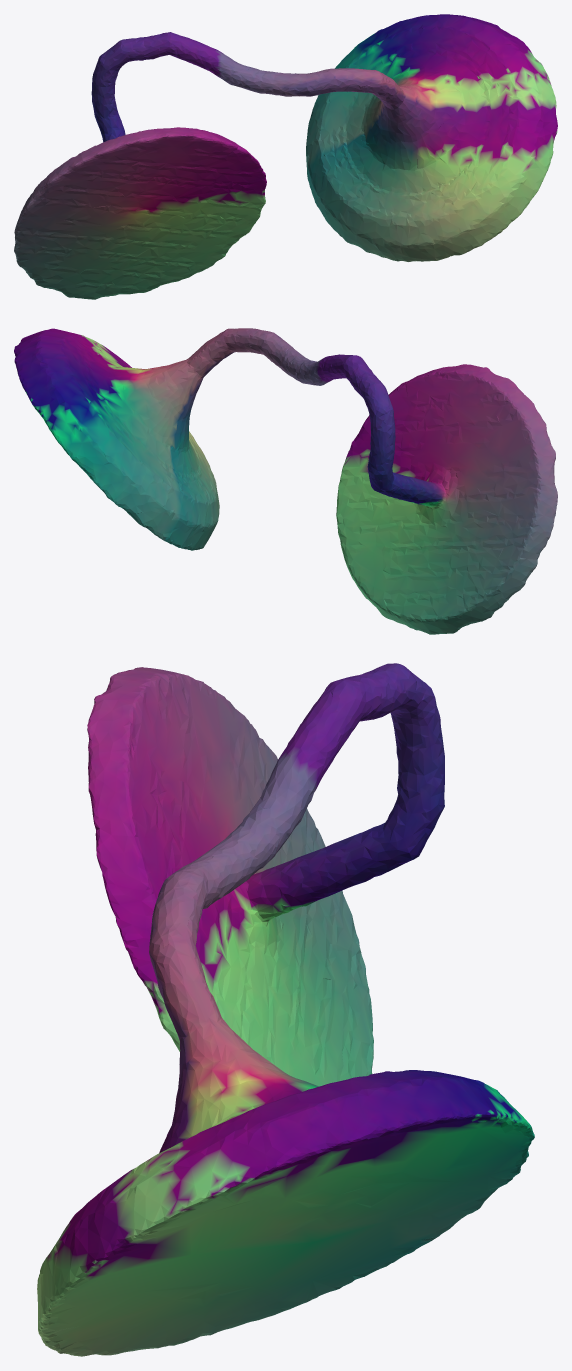
Rendered from lamp-8.off.obj.
3 renders of one model, top to bottom at view 1: azimuth 30°, elevation 25°; view 2: azimuth 150°, elevation 25°; view 3: azimuth 270°, elevation 25°, orthographic. The views are drawn at different scales.
Size of the model in its own units: 1.77 by 0.8208 by 0.7424.
